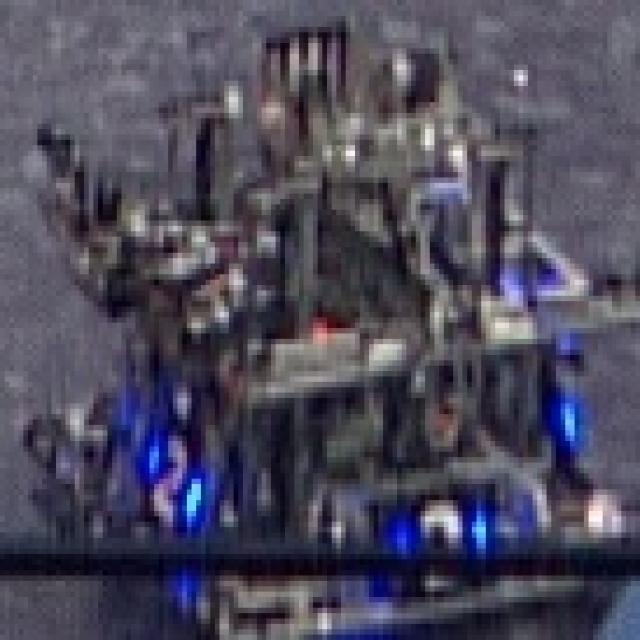B2: (383, 484, 491, 608), (136, 414, 206, 533)
